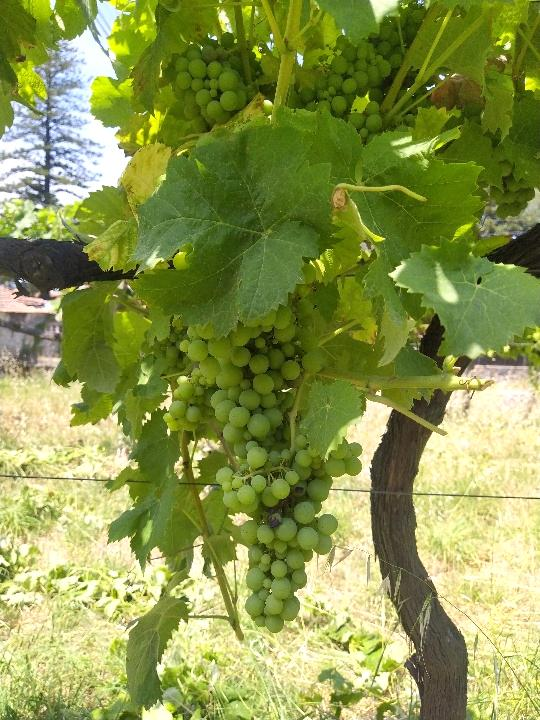grape: (213, 437, 364, 635), (160, 303, 327, 452), (299, 2, 427, 142), (159, 31, 262, 126)
